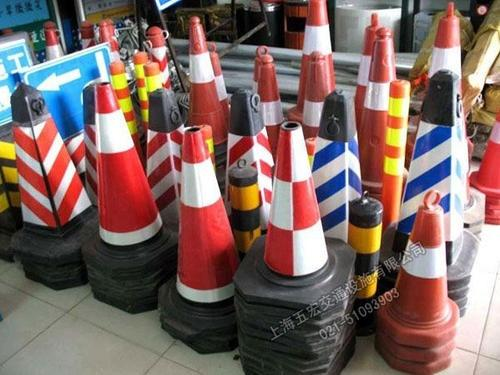cone_barrel: (403, 67, 483, 273), (5, 84, 90, 240), (172, 124, 240, 317), (84, 80, 163, 245), (377, 193, 460, 339), (260, 122, 334, 276), (307, 98, 368, 239), (354, 32, 396, 206), (221, 88, 268, 237), (182, 15, 227, 165), (373, 65, 410, 232), (142, 91, 189, 219), (294, 0, 340, 128), (345, 188, 383, 300), (226, 157, 262, 254), (250, 52, 285, 150), (41, 19, 64, 62)
